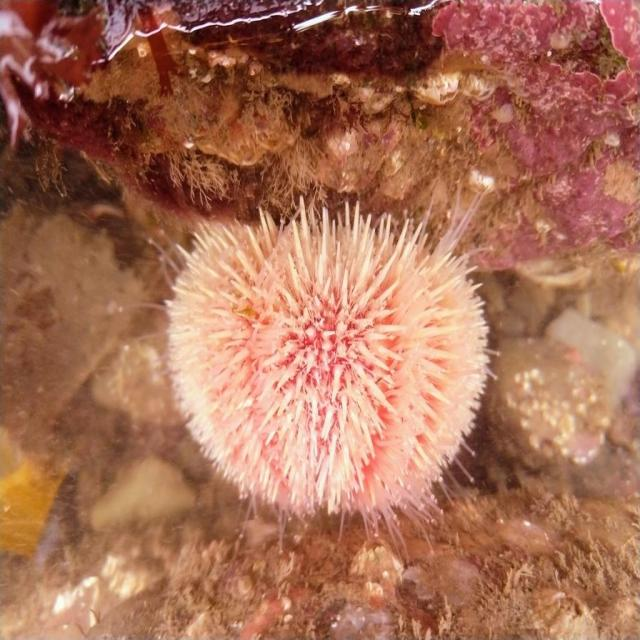Deniz Kestanesi: (118, 182, 501, 568)
